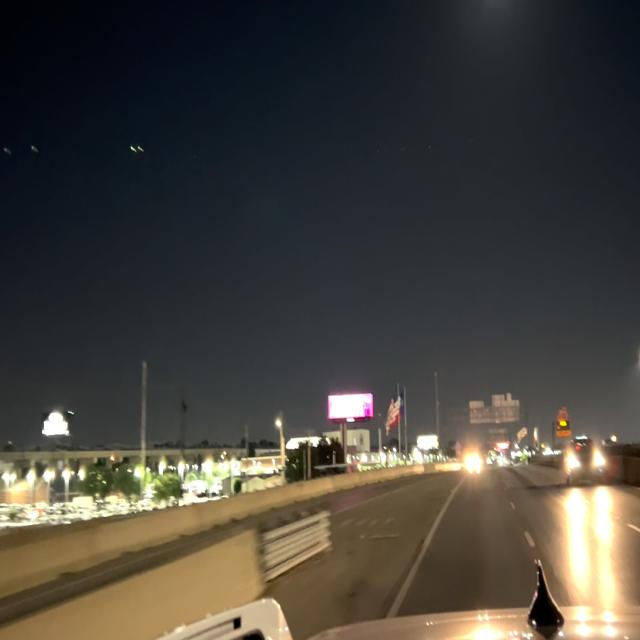back-of-sign: (466, 388, 523, 429)
